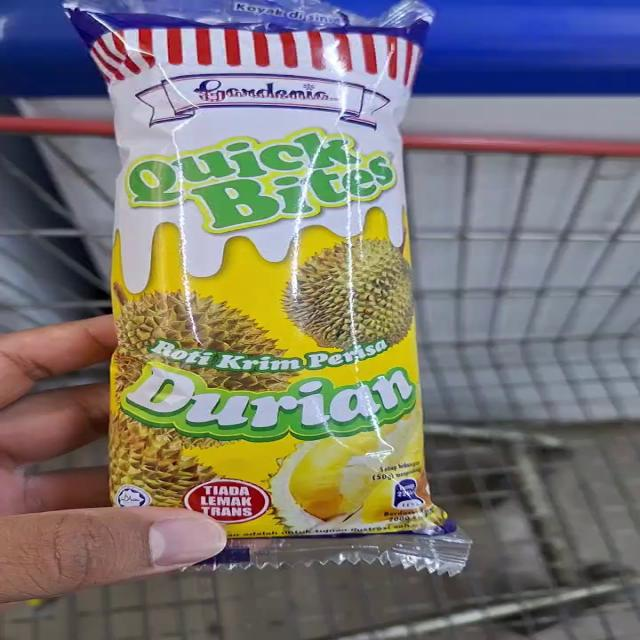Roti: (84, 255, 484, 580), (76, 0, 431, 280)
